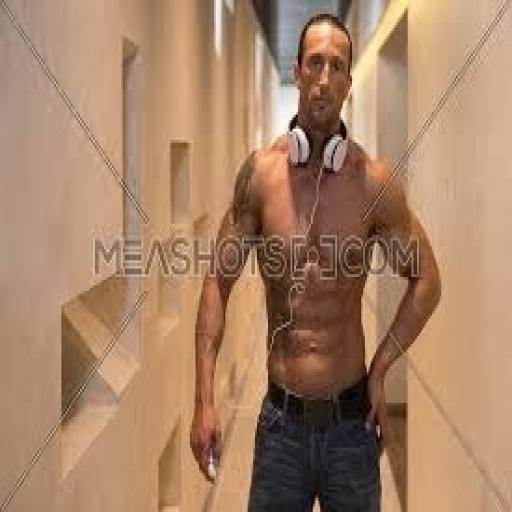listening_to_music: (186, 11, 443, 509)
